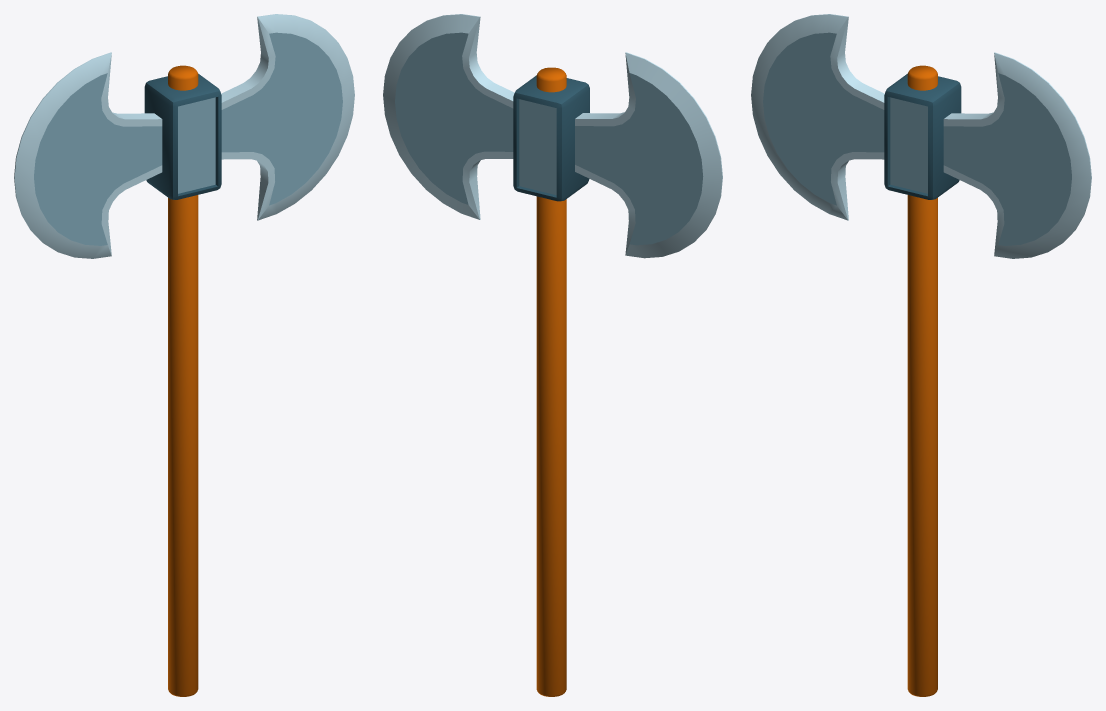
Rendered from Sekira.fbx.
3 views of the same model, side by side, from view 1: azimuth 30°, elevation 25°; view 2: azimuth 150°, elevation 25°; view 3: azimuth 330°, elevation 25° (orthographic).
Visible parts, largest first — view 1: Sekira_Blade, Sekira_Handle, Sekira_Cube; view 2: Sekira_Blade, Sekira_Handle, Sekira_Cube; view 3: Sekira_Blade, Sekira_Handle, Sekira_Cube.
Part boxes in pixels (left/top/right/bottom): Sekira_Blade: left=14, top=14, right=354, bottom=258; Sekira_Handle: left=168, top=65, right=198, bottom=696; Sekira_Cube: left=144, top=73, right=221, bottom=199; Sekira_Blade: left=383, top=14, right=722, bottom=258; Sekira_Handle: left=536, top=67, right=566, bottom=696; Sekira_Cube: left=513, top=75, right=589, bottom=201; Sekira_Blade: left=751, top=14, right=1091, bottom=258; Sekira_Handle: left=907, top=65, right=937, bottom=696; Sekira_Cube: left=884, top=73, right=961, bottom=199.
Bounding box in the file's own units: 3.79 × 7 × 0.5808.
1 material, 1 textured.
